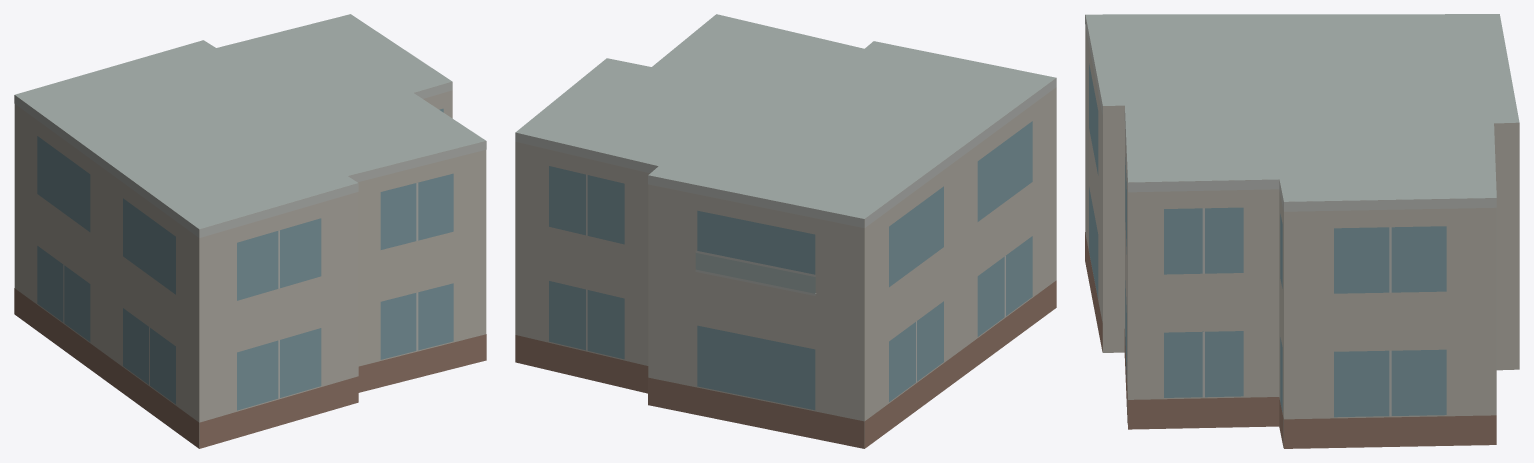
The model's file is survey-upis-32503487.glb.
The picture shows the model from 3 angles, left to right: view 1: azimuth 30°, elevation 25°; view 2: azimuth 150°, elevation 25°; view 3: azimuth 270°, elevation 25°; orthographic projection. The views are drawn at different scales.
Visible parts, largest first — view 1: survey-upis-32503487.tmp; view 2: survey-upis-32503487.tmp; view 3: survey-upis-32503487.tmp.
Boxes of the visible parts, x1,y1,x2,y2 form: survey-upis-32503487.tmp: (14, 14, 486, 448); survey-upis-32503487.tmp: (515, 14, 1056, 448); survey-upis-32503487.tmp: (1085, 14, 1519, 448).
Size of the model in its own units: 9.96 by 6.1 by 9.73.
